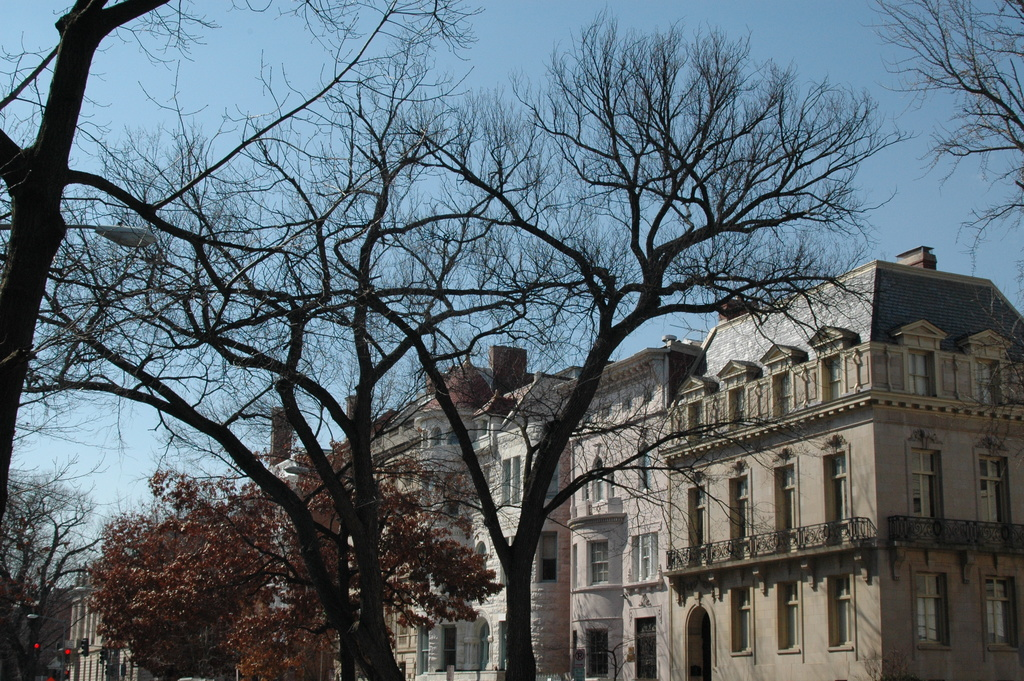Tree: (50, 0, 960, 681)
